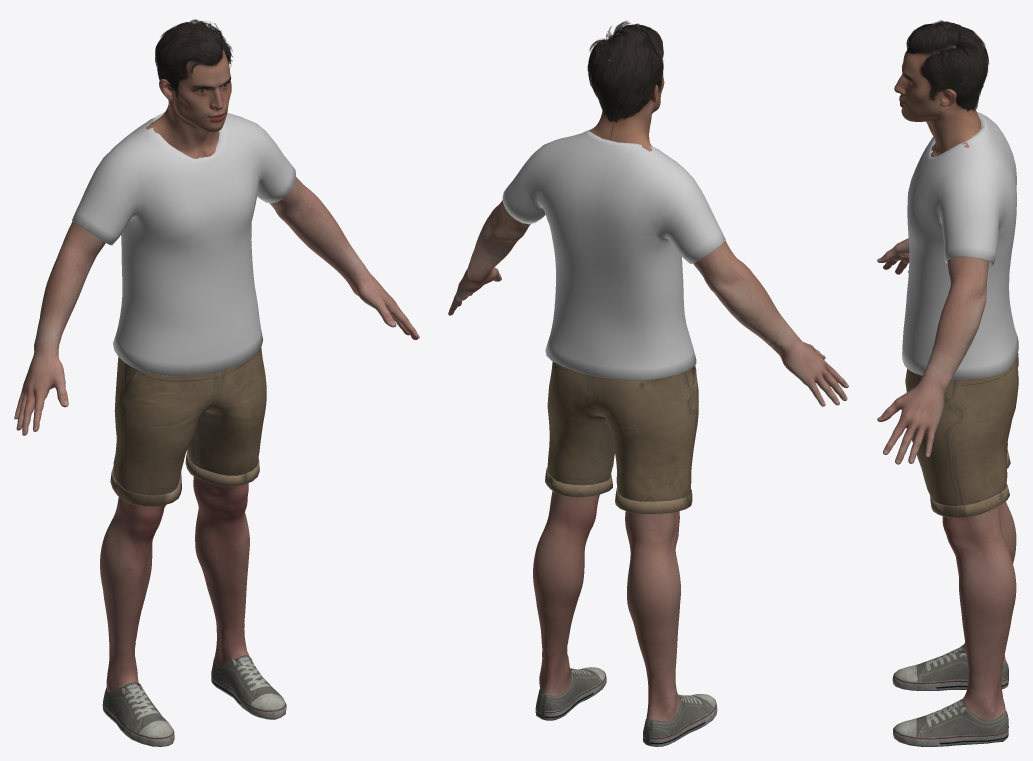
The model's file is joe__realistic_human_3d_model.glb.
The picture shows the model from 3 angles, left to right: view 1: azimuth 30°, elevation 25°; view 2: azimuth 150°, elevation 25°; view 3: azimuth 270°, elevation 25°; orthographic projection.
Visible parts, largest first — view 1: TShirt, Shorts, Legs, Arms, Face, Shoes, Hair; view 2: TShirt, Shorts, Legs, Arms, Hair, Shoes, Face; view 3: TShirt, Shorts, Legs, Arms, Shoes, Hair, Face.
Boxes of the visible parts, x1,y1,x2,y2 form: TShirt: [72, 112, 295, 375]; Shorts: [110, 347, 266, 506]; Legs: [100, 476, 249, 692]; Arms: [14, 177, 419, 435]; Face: [146, 32, 231, 158]; Shoes: [102, 655, 286, 746]; Hair: [155, 19, 233, 96]; TShirt: [502, 130, 725, 380]; Shorts: [545, 362, 698, 513]; Legs: [533, 491, 680, 721]; Arms: [448, 200, 848, 406]; Hair: [587, 20, 663, 122]; Shoes: [535, 667, 717, 746]; Face: [589, 31, 664, 151]; TShirt: [902, 112, 1018, 379]; Shorts: [905, 353, 1018, 517]; Legs: [942, 501, 1016, 720]; Arms: [877, 238, 989, 464]; Shoes: [892, 645, 1008, 746]; Hair: [906, 20, 988, 111]; Face: [894, 28, 984, 156].
Size of the model in its own units: 1.02 by 1.72 by 0.3198.
12 materials, 10 textured.
